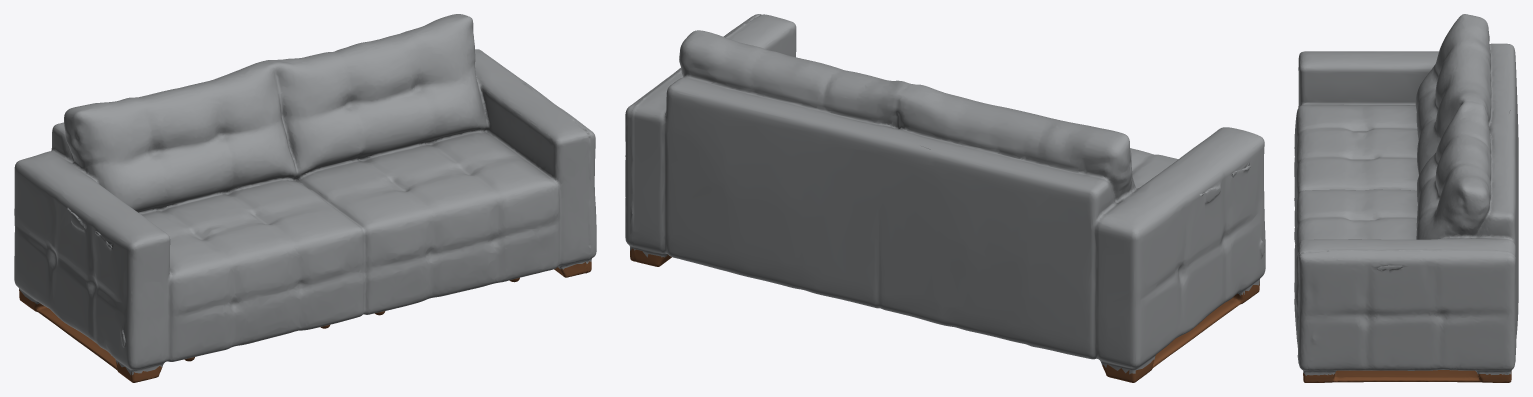
Rendered from ibiza-210-foto.glb.
3 renders of one model, left to right at view 1: azimuth 30°, elevation 25°; view 2: azimuth 150°, elevation 25°; view 3: azimuth 270°, elevation 25°, orthographic. The views are drawn at different scales.
Visible parts, largest first — view 1: Sofa; view 2: Sofa; view 3: Sofa.
Boxes of the visible parts, bbox=[...] form: Sofa: bbox=[14, 14, 596, 382]; Sofa: bbox=[625, 14, 1265, 382]; Sofa: bbox=[1294, 14, 1518, 382].
Size of the model in its own units: 2.1 by 0.85 by 0.95.
